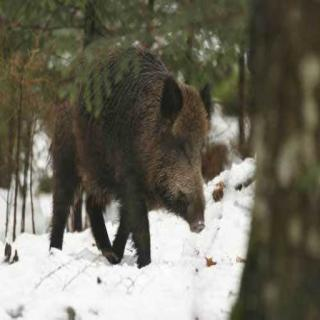Pig: (52, 28, 216, 286)
